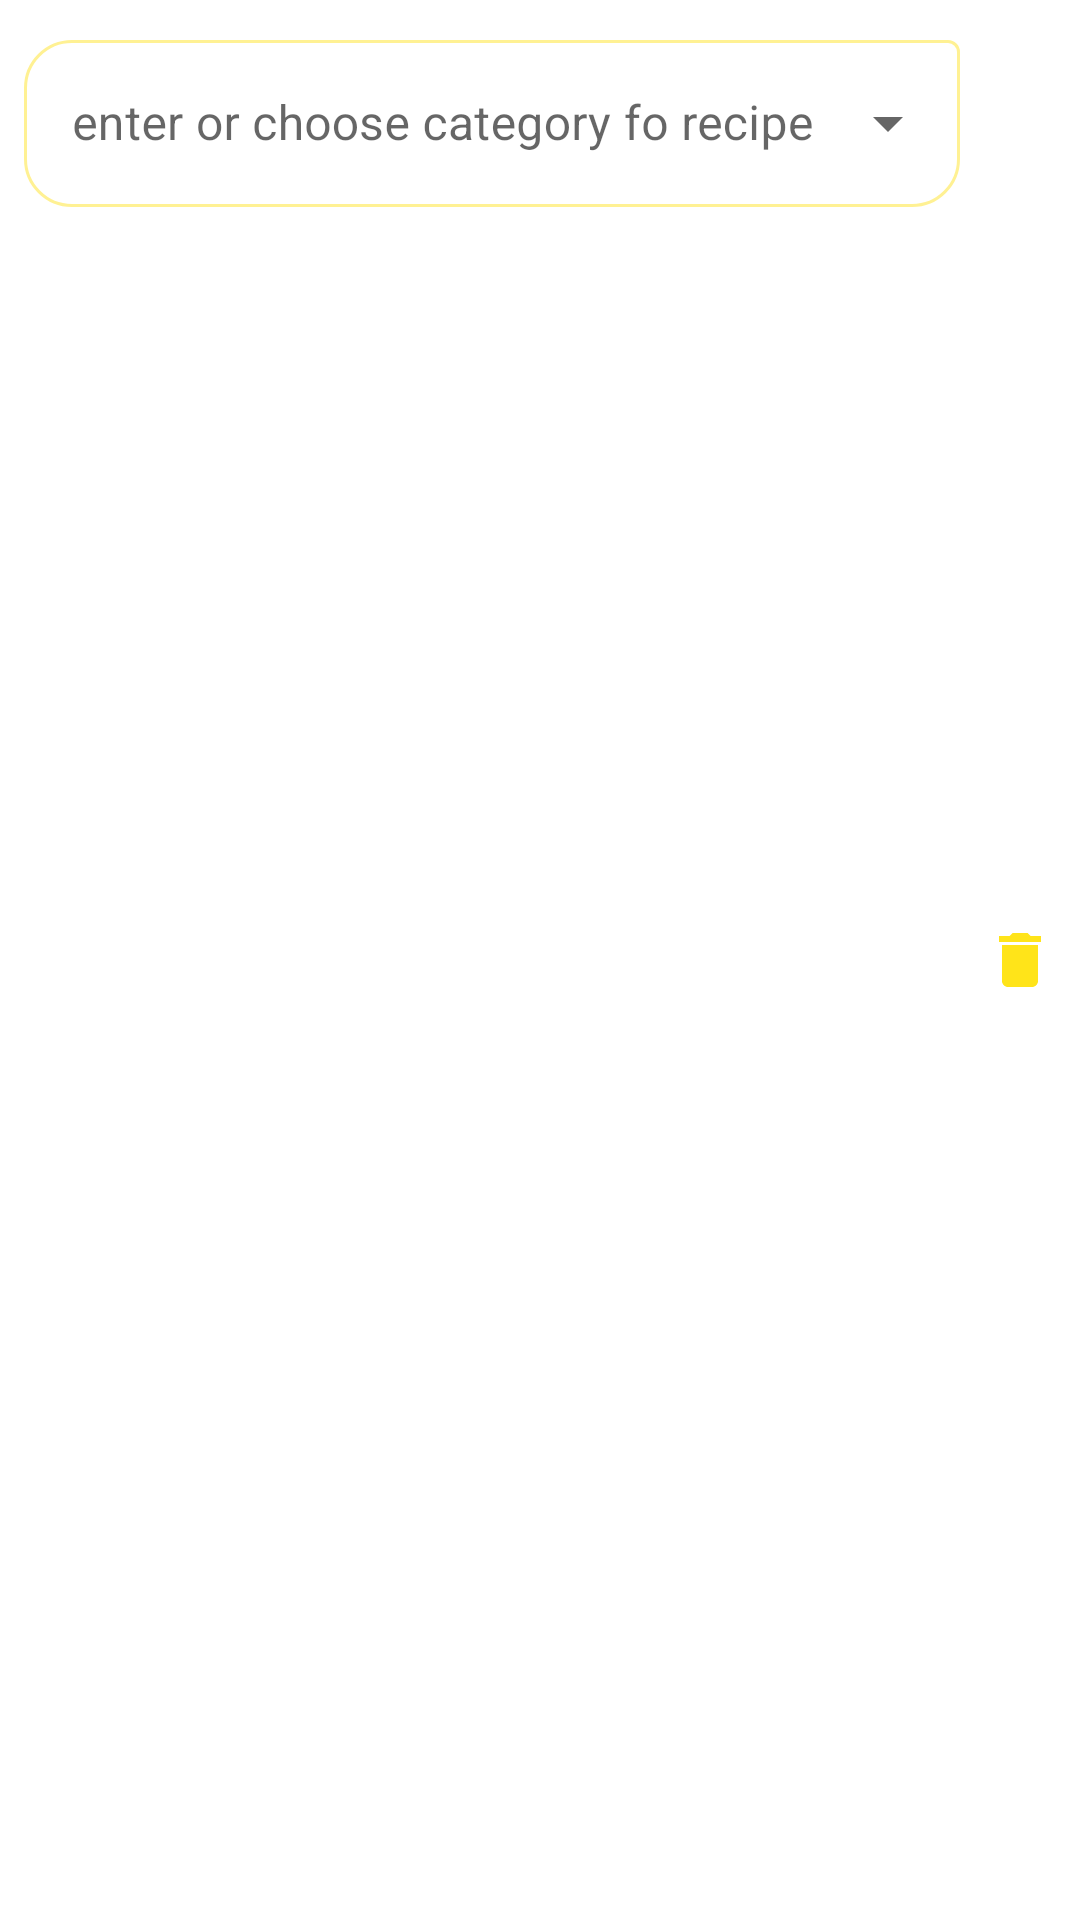

Icons on this 1080 x 1920 Android screen, each with the point to tap as (x,y):
delete: (1020,960)
